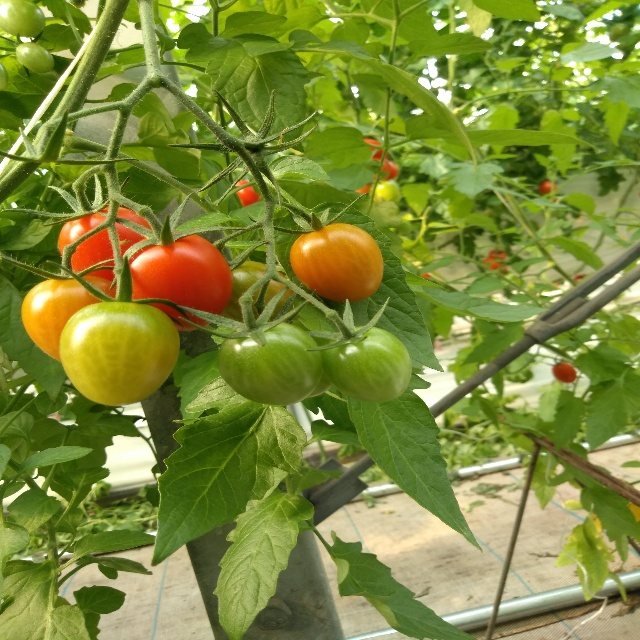l_fully_ripened: (119, 232, 234, 330), (58, 205, 159, 284)
l_green: (60, 300, 180, 406), (218, 320, 325, 407), (319, 326, 413, 404), (220, 260, 298, 329), (0, 0, 45, 39), (14, 43, 55, 73)
l_half_ripened: (21, 274, 124, 362), (289, 222, 383, 303)
